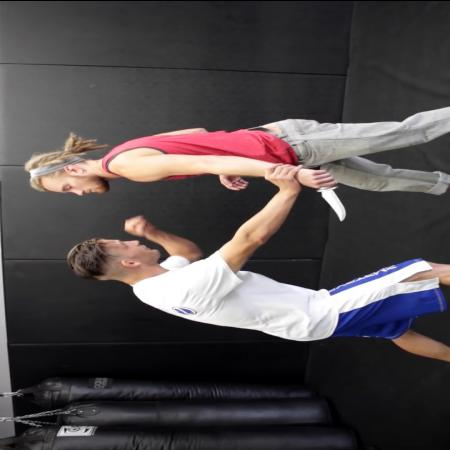long weapon: (304, 161, 354, 224)
